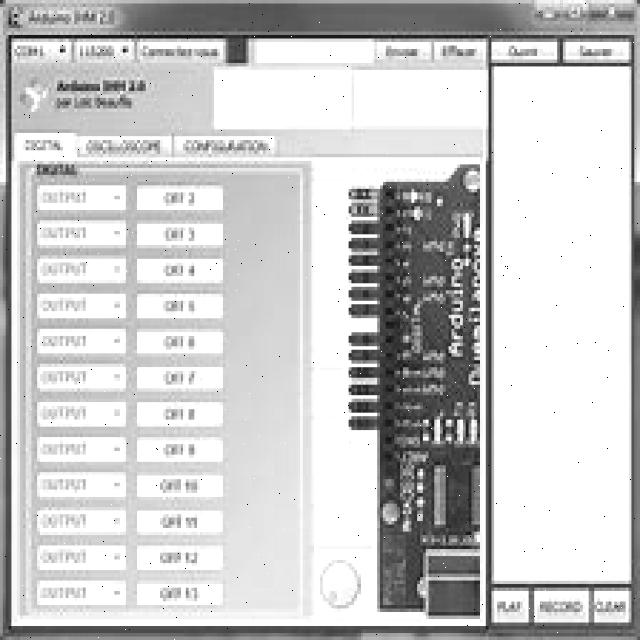button: (135, 30, 226, 65), (532, 589, 592, 627), (562, 35, 634, 64), (492, 585, 533, 629), (375, 37, 433, 64), (491, 41, 560, 62), (594, 590, 634, 625), (434, 39, 488, 64), (588, 0, 638, 25), (528, 0, 560, 20), (562, 0, 590, 21)
dropdownMenu: (35, 252, 128, 286), (35, 325, 128, 358), (34, 504, 129, 536), (34, 182, 128, 214), (35, 576, 129, 608), (36, 541, 128, 573), (35, 434, 128, 465), (34, 469, 127, 500), (34, 218, 128, 248), (35, 291, 127, 321), (36, 398, 128, 428), (35, 362, 126, 391), (71, 37, 137, 64), (13, 40, 71, 63)
icon: (18, 72, 159, 118), (5, 3, 27, 30)
input: (492, 64, 634, 585), (351, 67, 486, 131), (215, 67, 353, 129), (134, 433, 226, 465), (135, 470, 226, 501), (135, 255, 225, 286), (134, 399, 226, 429), (134, 542, 226, 572), (136, 219, 225, 250), (135, 579, 226, 609), (135, 291, 225, 321), (136, 183, 224, 213), (136, 506, 224, 536), (135, 327, 225, 356), (135, 363, 225, 392)
label: (31, 4, 124, 32), (26, 163, 83, 178)
slider: (316, 554, 362, 613)
tabControl: (9, 128, 282, 162)
